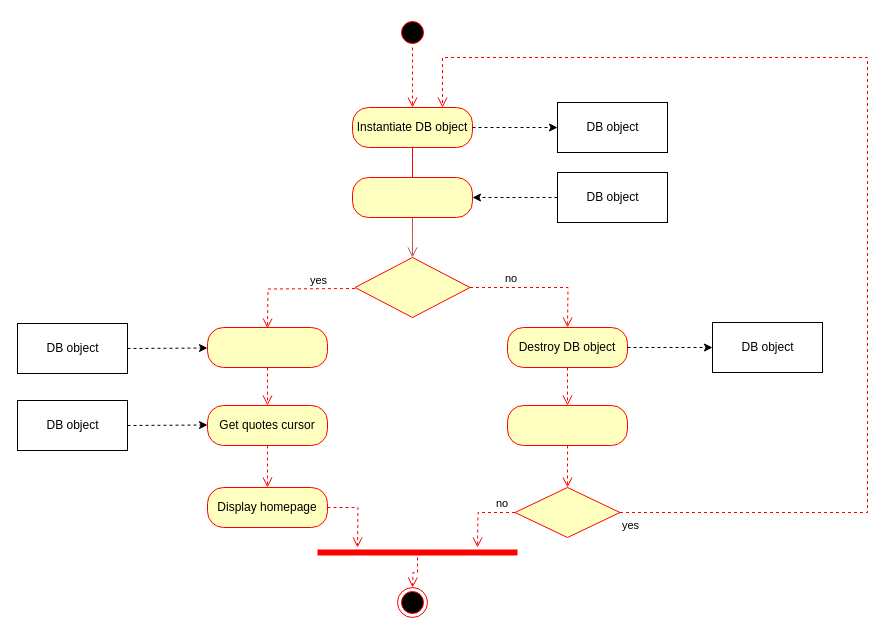
This 895x635 diagram has some shape labels left out. The centre of each missing label's shape, as x and y in pixels:
"Connect to DB" goes at point (412, 197).
"DB connection success?" goes at point (412, 287).
"Display error" goes at point (567, 425).
"Does user want to retry?" goes at point (567, 512).
"Get DB settings" goes at point (267, 347).
